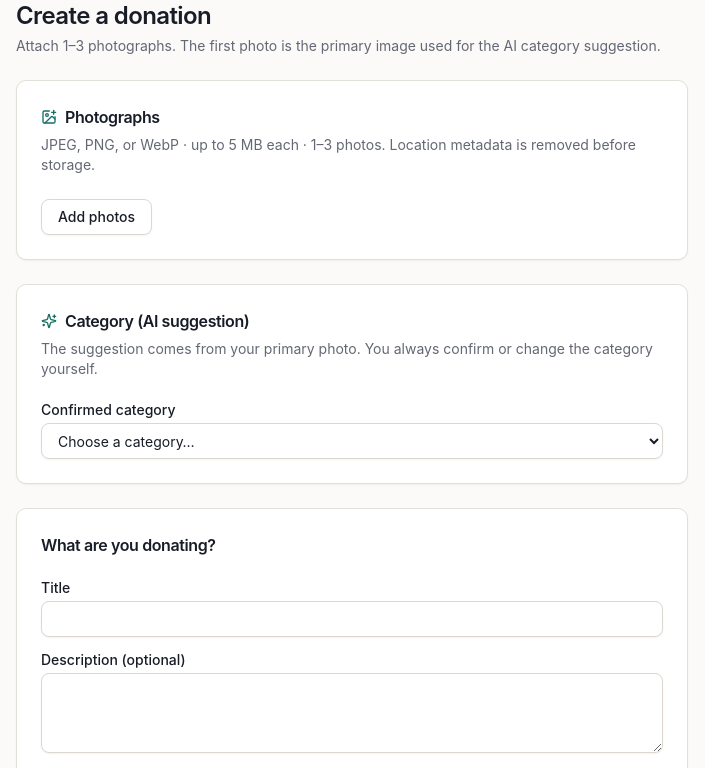
Test case: CreateDonationPage — validation › blocks submission without at least one photograph
The width and height of the screenshot is (705, 768).
Type "Winter jackets" into the field labelled "Title" at [352, 619], box [41,601,663,637]
(page scrolled)
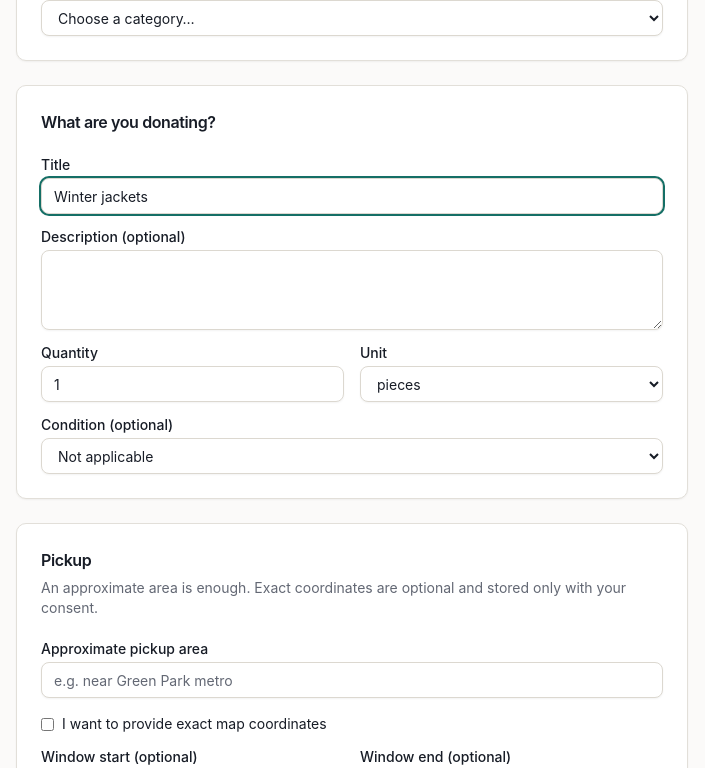
Replace the text in the number field labelled "Quantity" with "5" at [192, 384], box [41,366,344,402]
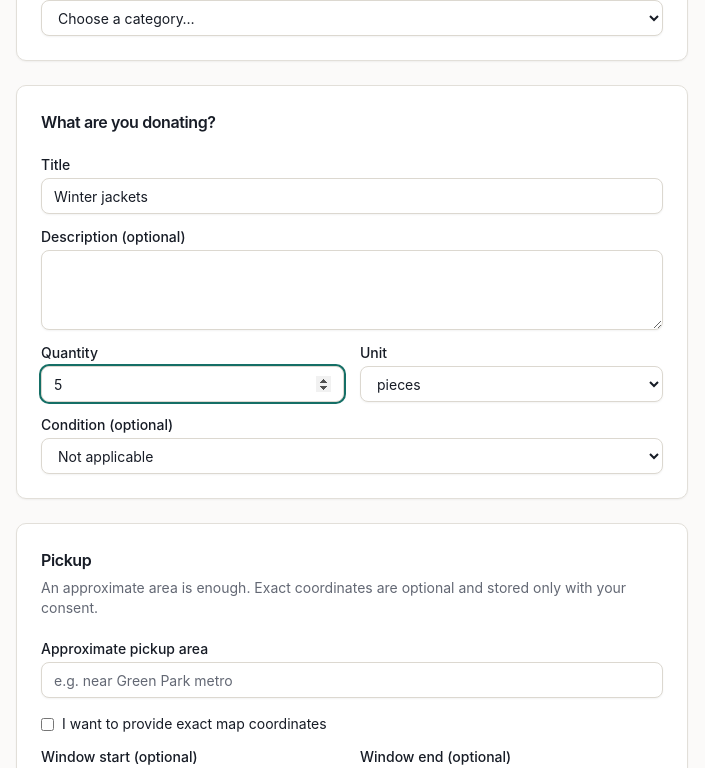
Type "Green Park" into the field labelled "Approximate pickup area" at [352, 680], box [41,662,663,698]
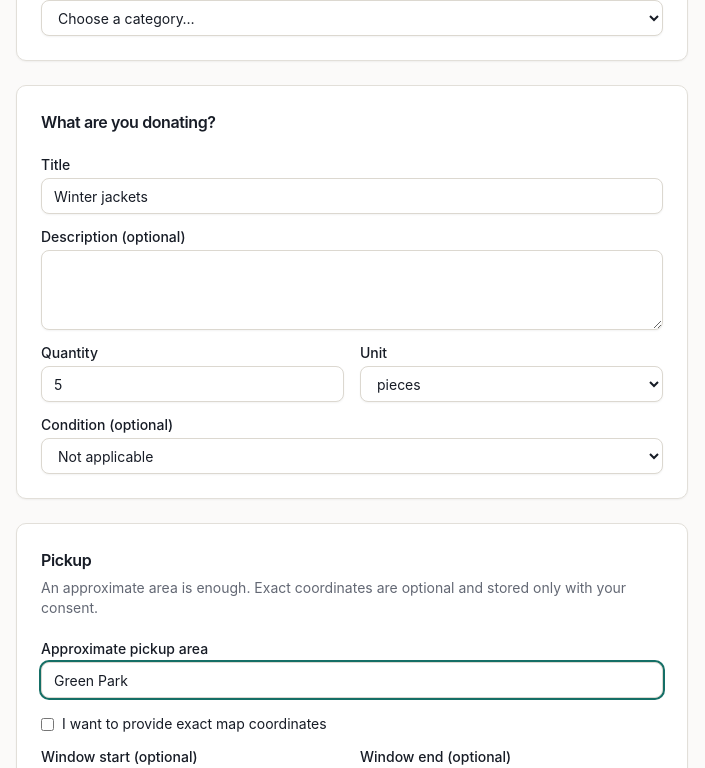
Select "Other" in the dropdown labelled "Confirmed category" at [352, 18], box [41,0,663,36]
(page scrolled)
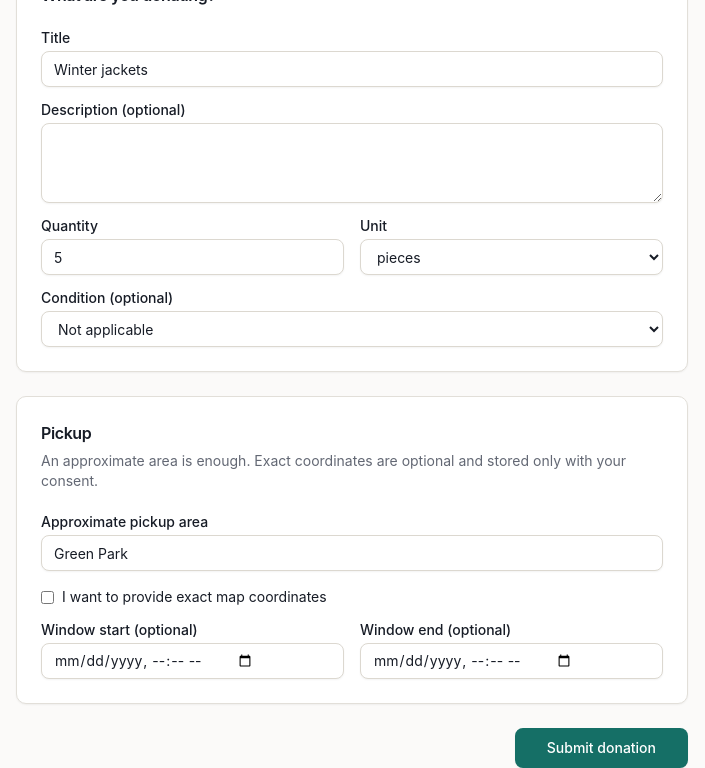
Click the button "Submit donation" at [601, 748], box [515,728,688,767]
(page scrolled)
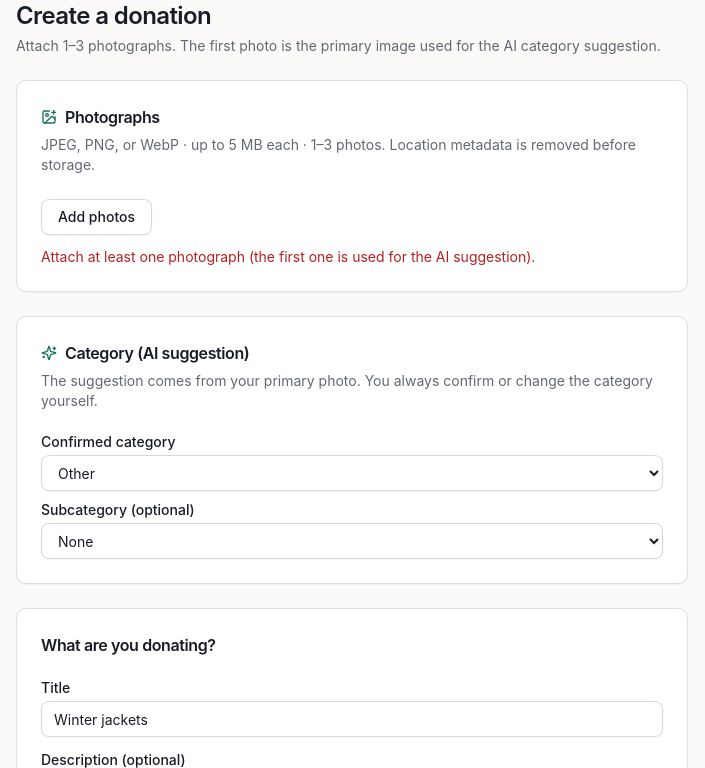
Check: the text "Attach at least one photograph" is shown, box [41,248,535,265]
